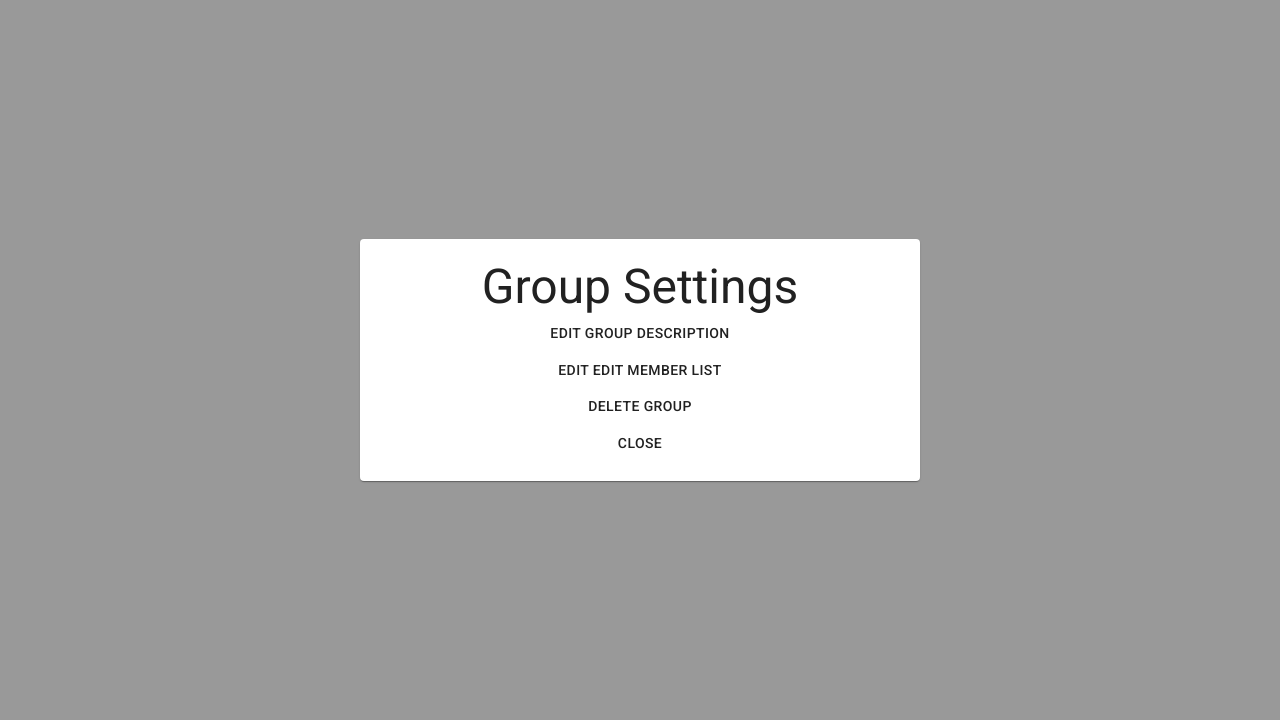
Test: should open edit menu and go back to main menu
Step 1. Click the button with test id "group-settings-editgroup" → [640, 333], box [390,315,890,352]
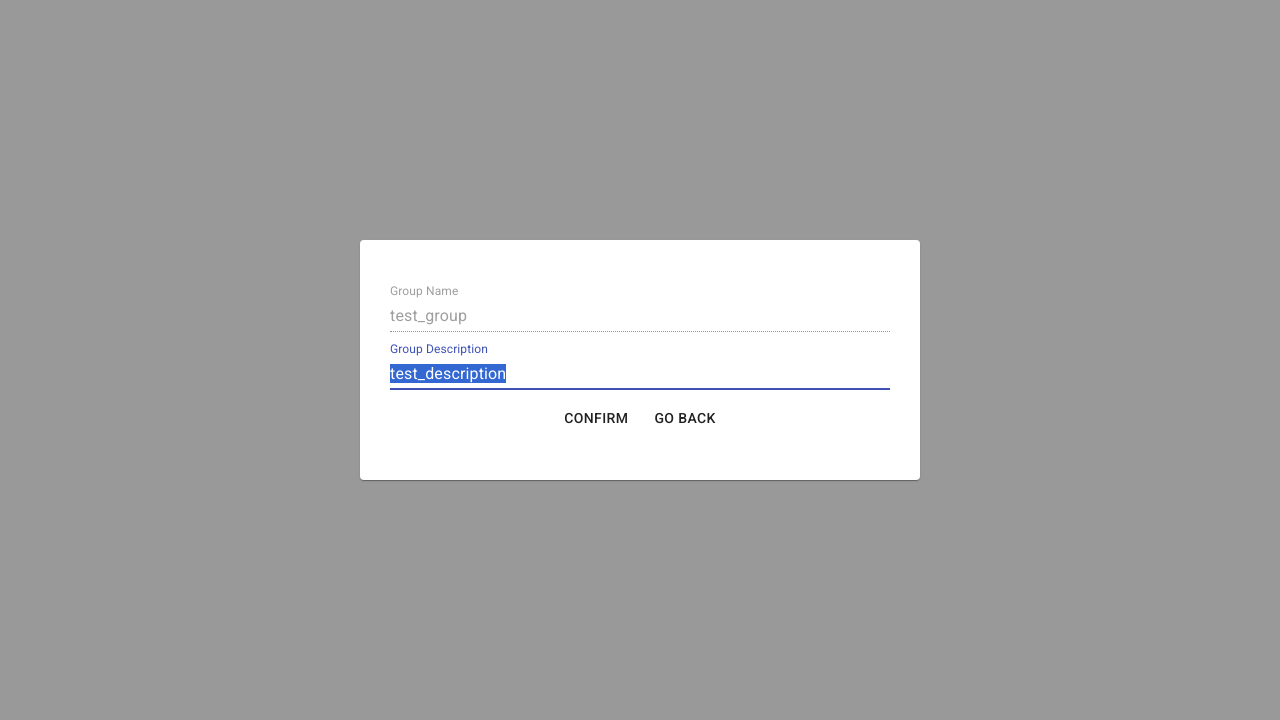
Expected: the field with test id "group-edit-name" holds "test_group", [390,300,890,332]
Expected: the field with test id "group-edit-description" holds "test_description", [390,358,890,390]
Step 2. Click the button with test id "group-edit-back" → [685, 418], box [646,400,724,436]
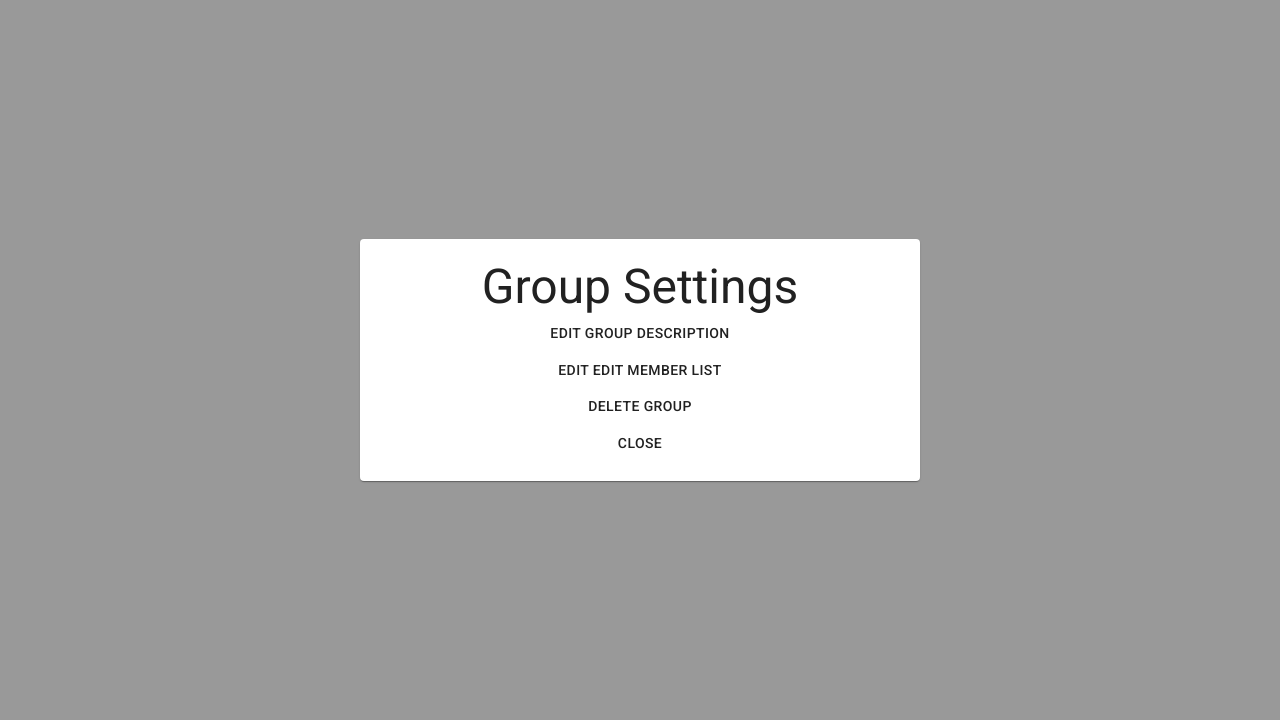
Expected: the heading "Group Settings" is shown, [482,258,798,315]
